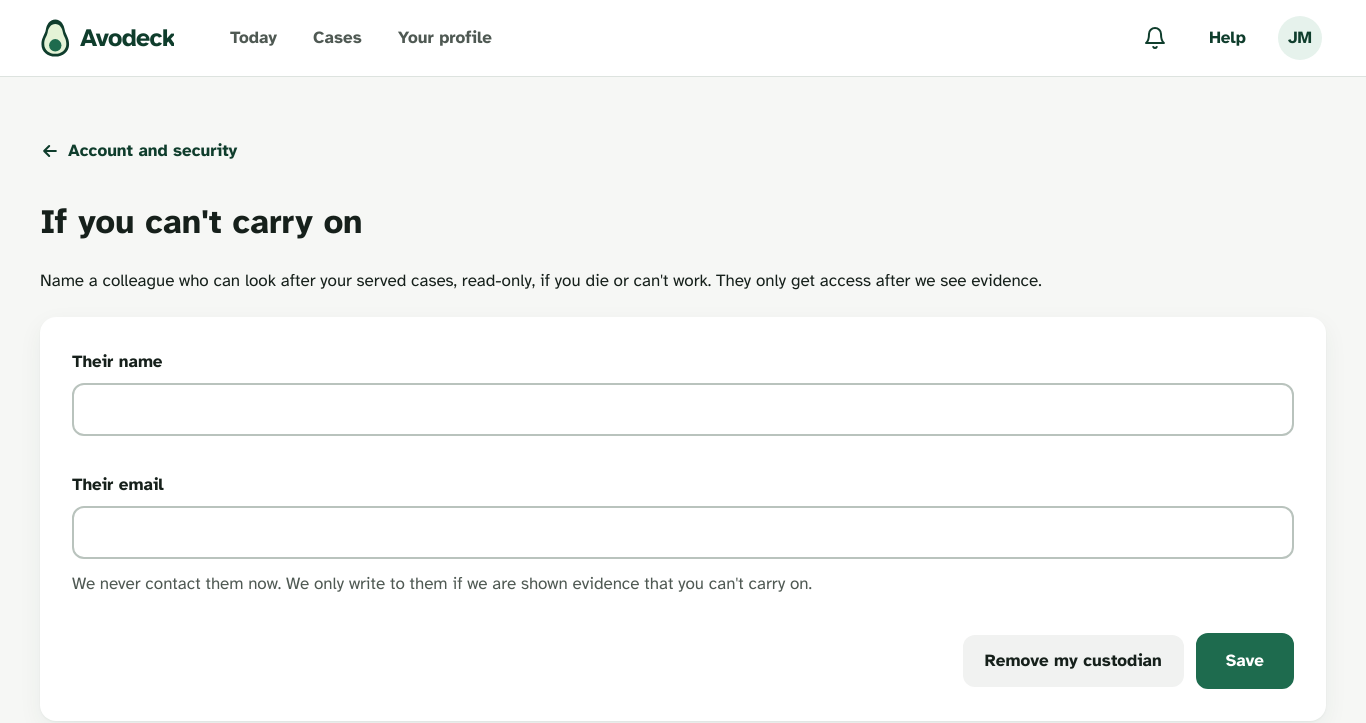
Test: names a records custodian with both a name and an email
In the field labelled "Their name": (683,409) [72, 382, 1294, 436], type "Dr Amira Bello"
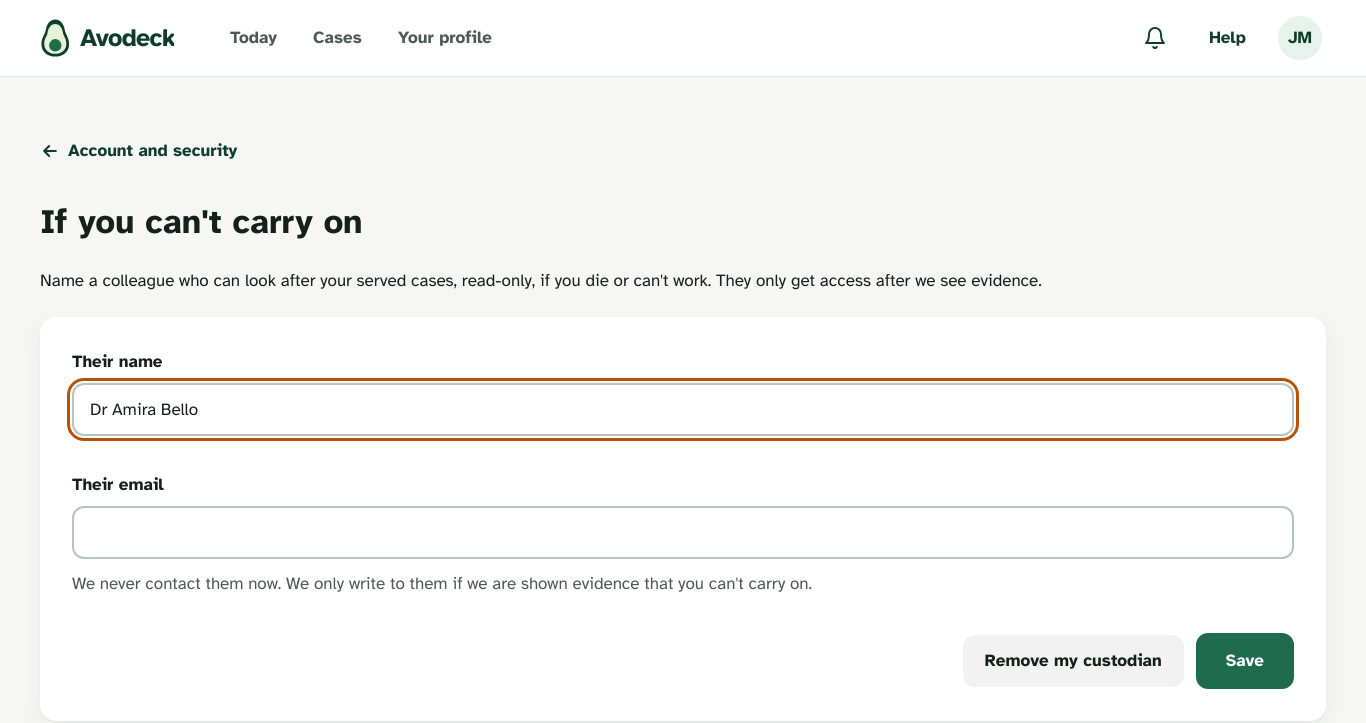
In the field labelled "Their email": (683,532) [72, 506, 1294, 559], type "a.bello@example.test"
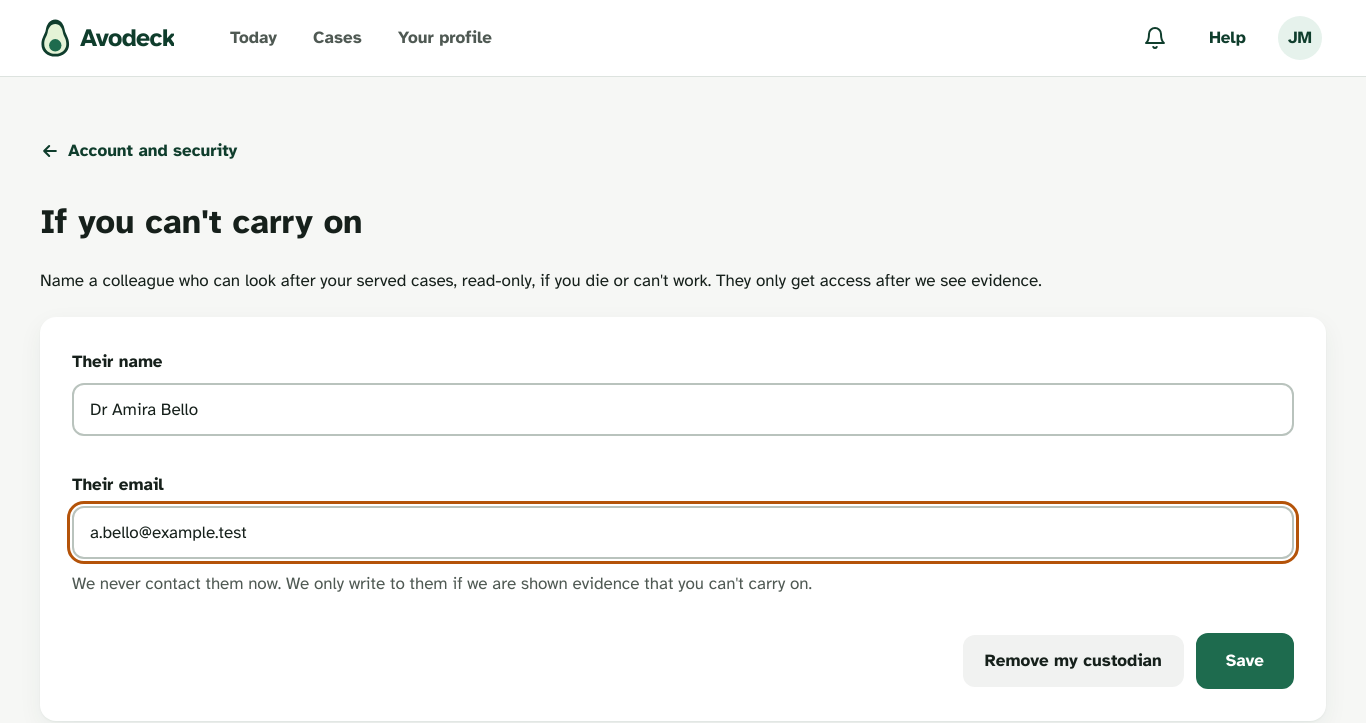
Click the button "Save": (1245,660) [1196, 632, 1294, 688]
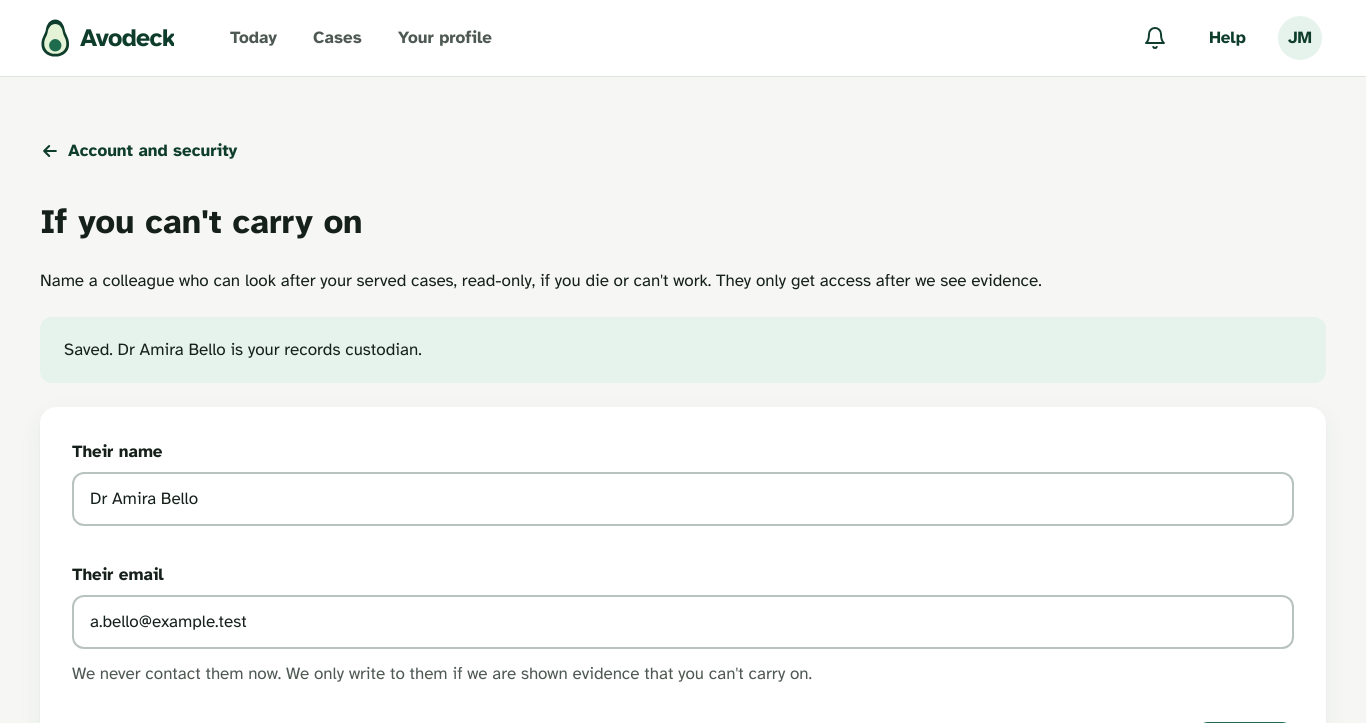
Result: the text "Saved. Dr Amira Bello is your records custodian." is shown at [64, 339, 422, 360]
